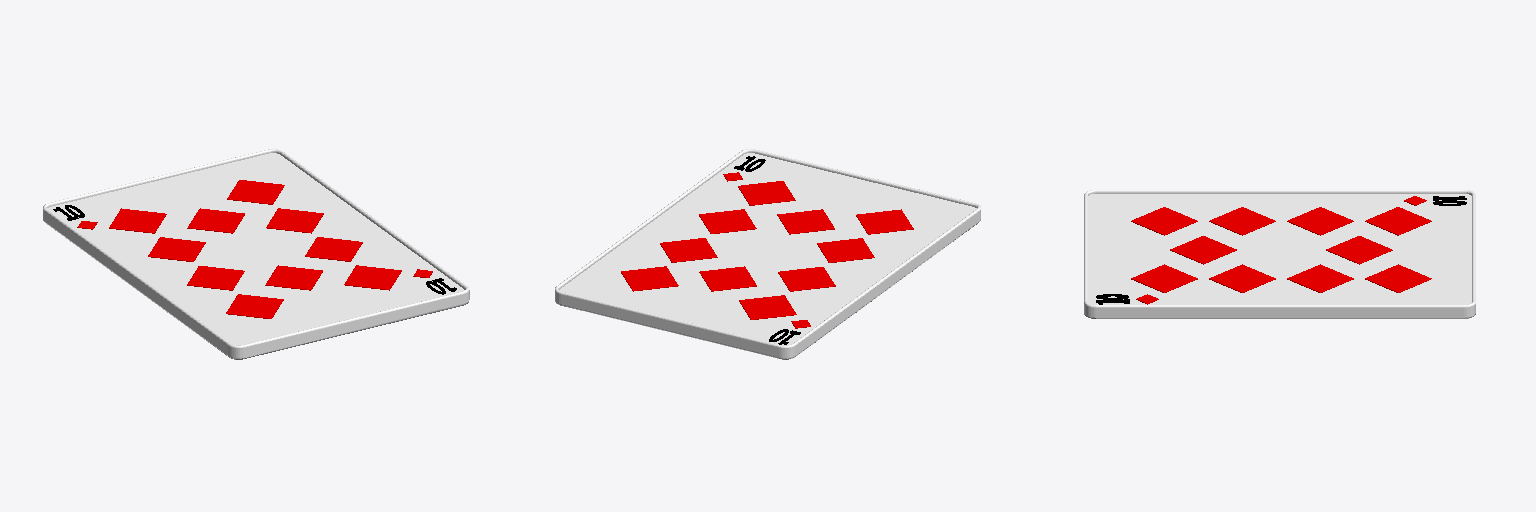
File: diamonds_10.obj
3 views of the same model, side by side, from view 1: azimuth 30°, elevation 25°; view 2: azimuth 150°, elevation 25°; view 3: azimuth 270°, elevation 25° (orthographic).
Parts seen in each view (by area): view 1: rect4266.013, rect4266.067, path4884-1-4, path4884-1-4-9, path4884-1-7-8, path4884-1-40-8, path4884-1-7, path4884-1-4-1-4, path4884-1-40-8-2, path4884-1, path4884-1-4-1, path4884-1-40 (+1 smaller); view 2: rect4266.013, rect4266.067, path4884-1-40-8, path4884-1-4, path4884-1, path4884-1-4-1, path4884-1-40, path4884-1-4-9, path4884-1-4-1-4, path4884-1-40-8-2, path4884-1-7-8, path4884-1-7; view 3: rect4266.013, rect4266.067, path4884-1, path4884-1-4, path4884-1-40, path4884-1-40-8, path4884-1-4-1, path4884-1-7, path4884-1-4-9, path4884-1-4-1-4, path4884-1-7-8, path4884-1-40-8-2.
Part boxes in pixels (x1,y1,x2,y2): rect4266.013: (47, 153, 464, 344); rect4266.067: (43, 149, 469, 358); path4884-1-4: (226, 294, 283, 318); path4884-1-4-9: (344, 265, 401, 290); path4884-1-7-8: (266, 208, 323, 233); path4884-1-40-8: (265, 265, 322, 290); path4884-1-7: (148, 237, 205, 261); path4884-1-4-1-4: (305, 237, 362, 261); path4884-1-40-8-2: (187, 208, 244, 233); path4884-1: (109, 208, 166, 233); path4884-1-4-1: (187, 266, 244, 290); path4884-1-40: (227, 180, 284, 204); rect4266.013: (559, 153, 976, 344); rect4266.067: (555, 149, 980, 358); path4884-1-40-8: (777, 209, 834, 234); path4884-1-4: (856, 209, 913, 234); path4884-1: (739, 295, 796, 319); path4884-1-4-1: (817, 238, 874, 262); path4884-1-40: (621, 266, 678, 291); path4884-1-4-9: (738, 181, 795, 205); path4884-1-4-1-4: (699, 209, 756, 233); path4884-1-40-8-2: (699, 266, 756, 291); path4884-1-7-8: (660, 238, 717, 262); path4884-1-7: (778, 267, 835, 291); rect4266.013: (1088, 194, 1471, 304); rect4266.067: (1084, 190, 1475, 318); path4884-1: (1365, 207, 1431, 235); path4884-1-4: (1131, 207, 1197, 235); path4884-1-40: (1365, 264, 1431, 292); path4884-1-40-8: (1170, 236, 1236, 264); path4884-1-4-1: (1209, 207, 1275, 235); path4884-1-7: (1287, 207, 1353, 235); path4884-1-4-9: (1131, 264, 1197, 292); path4884-1-4-1-4: (1209, 264, 1275, 292); path4884-1-7-8: (1287, 264, 1353, 292); path4884-1-40-8-2: (1326, 236, 1392, 264).
Bounding box in the file's own units: 2.88 × 0.1966 × 4.08.